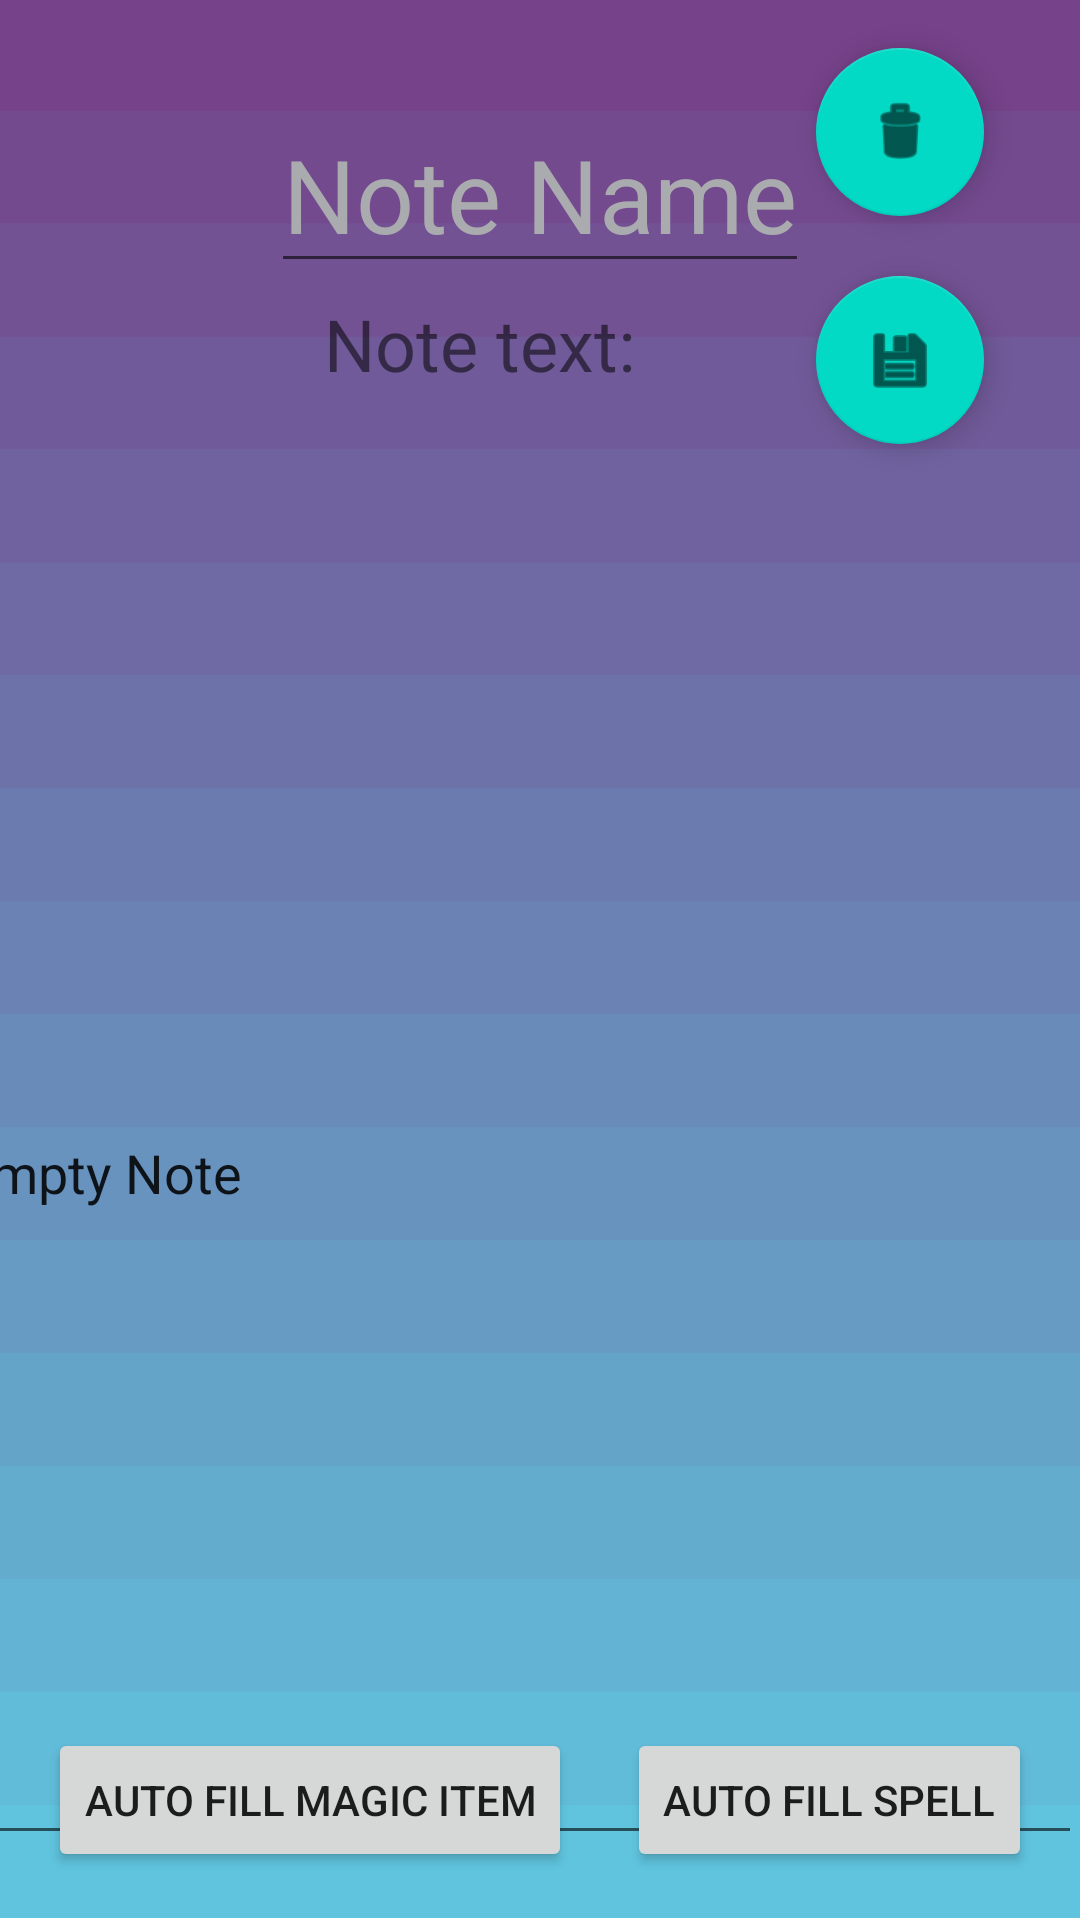

Where icons sit on this 1080*1920 app screen, as (x1, y1, x2, y2):
delete: (816, 48, 984, 216)
save: (816, 276, 984, 444)
